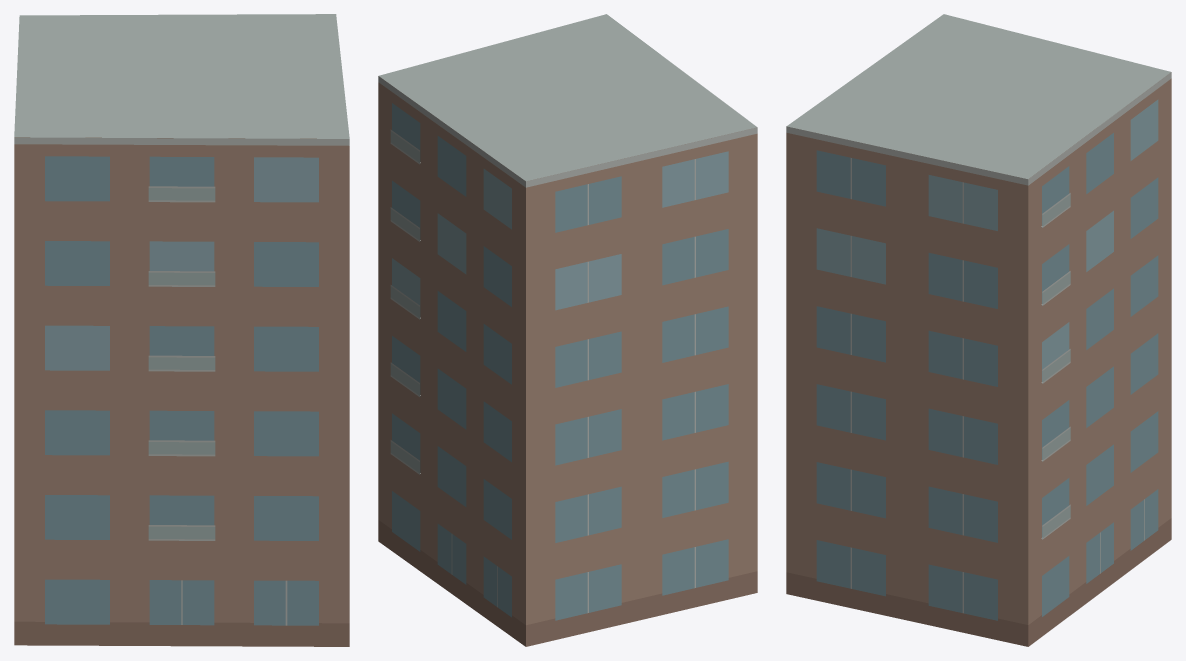
File: survey-upis-32878604.glb
The picture shows the model from 3 angles, left to right: view 1: azimuth 30°, elevation 25°; view 2: azimuth 150°, elevation 25°; view 3: azimuth 270°, elevation 25°; orthographic projection. The views are drawn at different scales.
Visible parts, largest first — view 1: survey-upis-32878604.tmp; view 2: survey-upis-32878604.tmp; view 3: survey-upis-32878604.tmp.
Part boxes in pixels (x1=…): survey-upis-32878604.tmp: x1=14, y1=14, x2=349, y2=646; survey-upis-32878604.tmp: x1=378, y1=14, x2=757, y2=646; survey-upis-32878604.tmp: x1=786, y1=14, x2=1171, y2=646.
Size of the model in its own units: 13.65 by 18 by 13.45.
